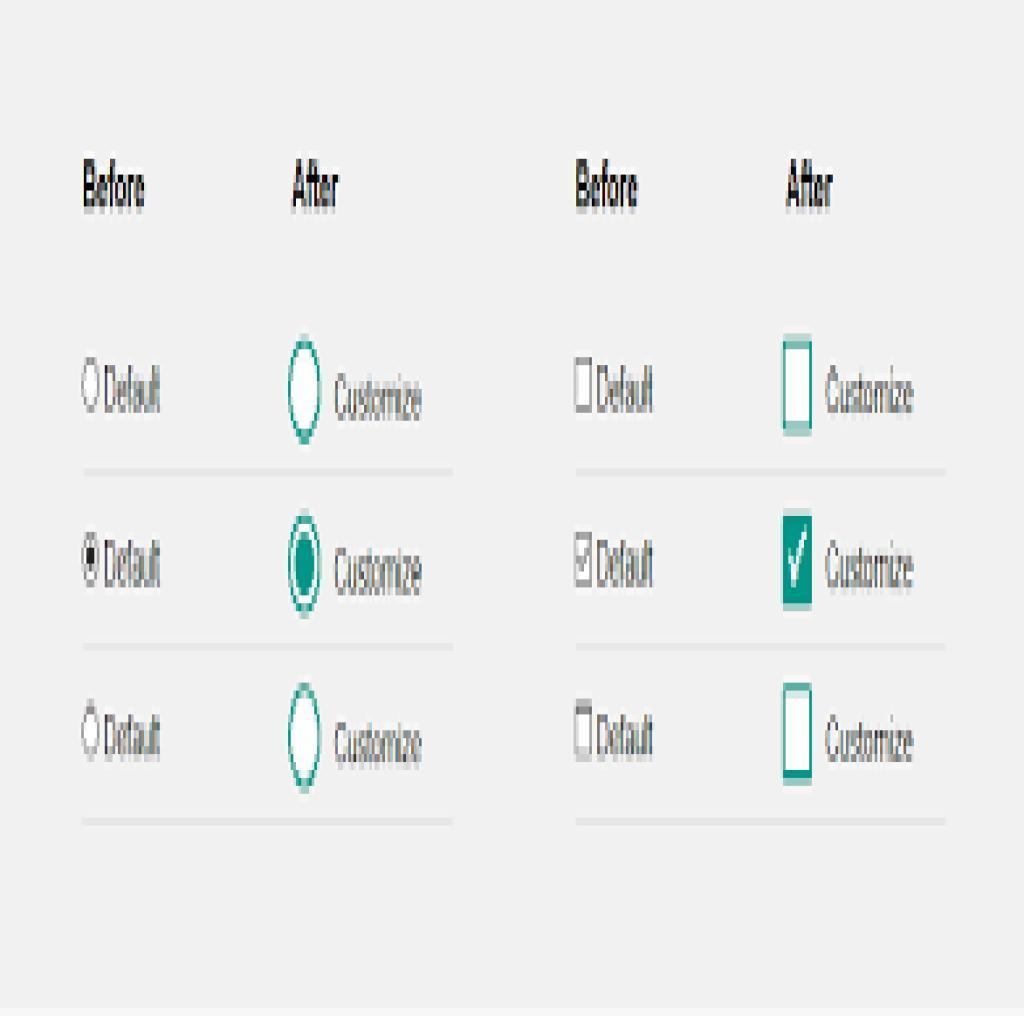checkbox: (781, 514, 815, 607), (784, 682, 814, 780), (782, 341, 813, 429), (572, 533, 596, 595), (575, 357, 597, 417), (578, 702, 593, 757)
radio: (284, 682, 327, 793), (285, 339, 326, 450), (290, 512, 326, 621), (76, 524, 104, 598), (77, 353, 103, 413), (78, 704, 101, 757)
